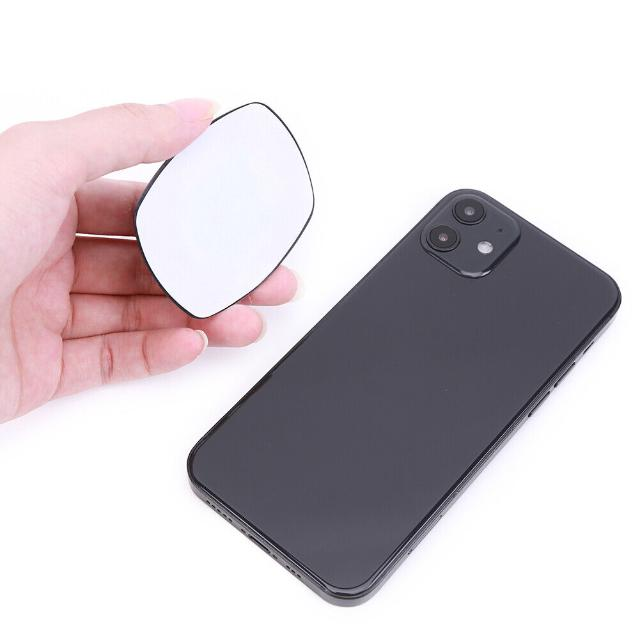Smartphone: (186, 189, 623, 609)
